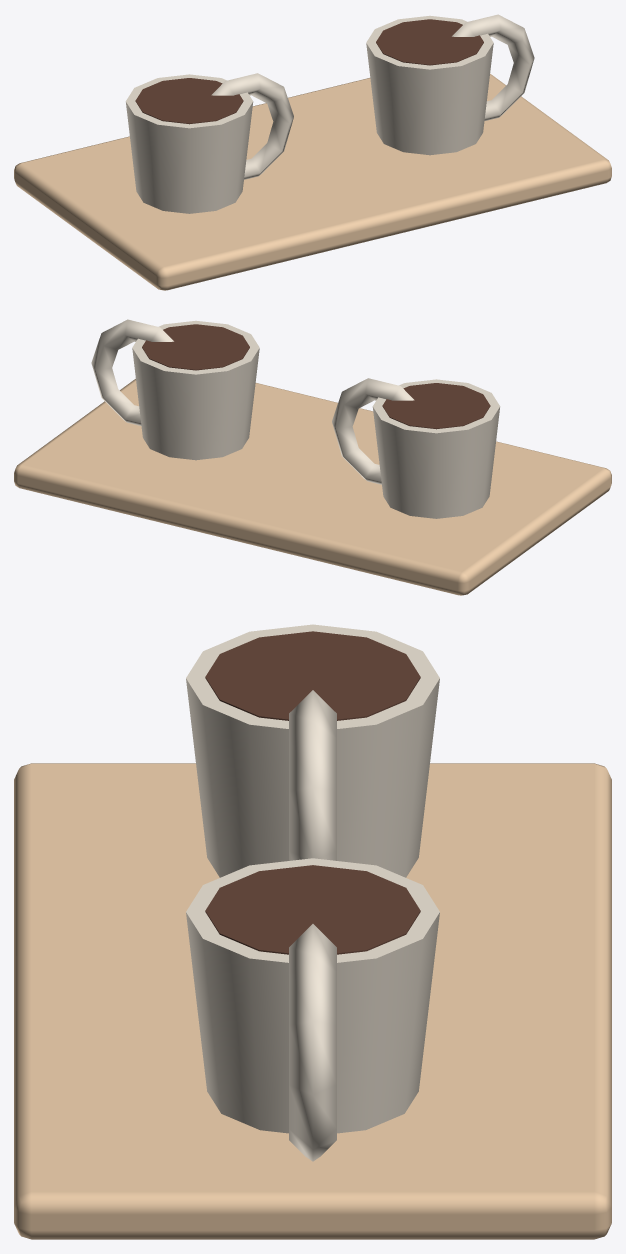
The model's file is suite_tea_tray.glb.
3 renders of one model, top to bottom at view 1: azimuth 30°, elevation 25°; view 2: azimuth 150°, elevation 25°; view 3: azimuth 270°, elevation 25°, orthographic. The views are drawn at different scales.
Bounding box in the file's own units: 0.7 × 0.1845 × 0.4.
